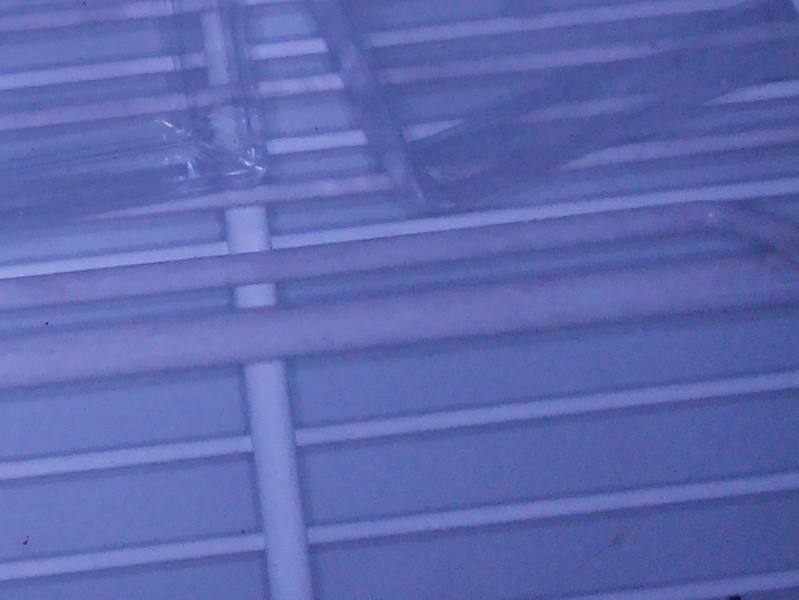plate: (302, 1, 799, 214), (1, 1, 270, 223)
